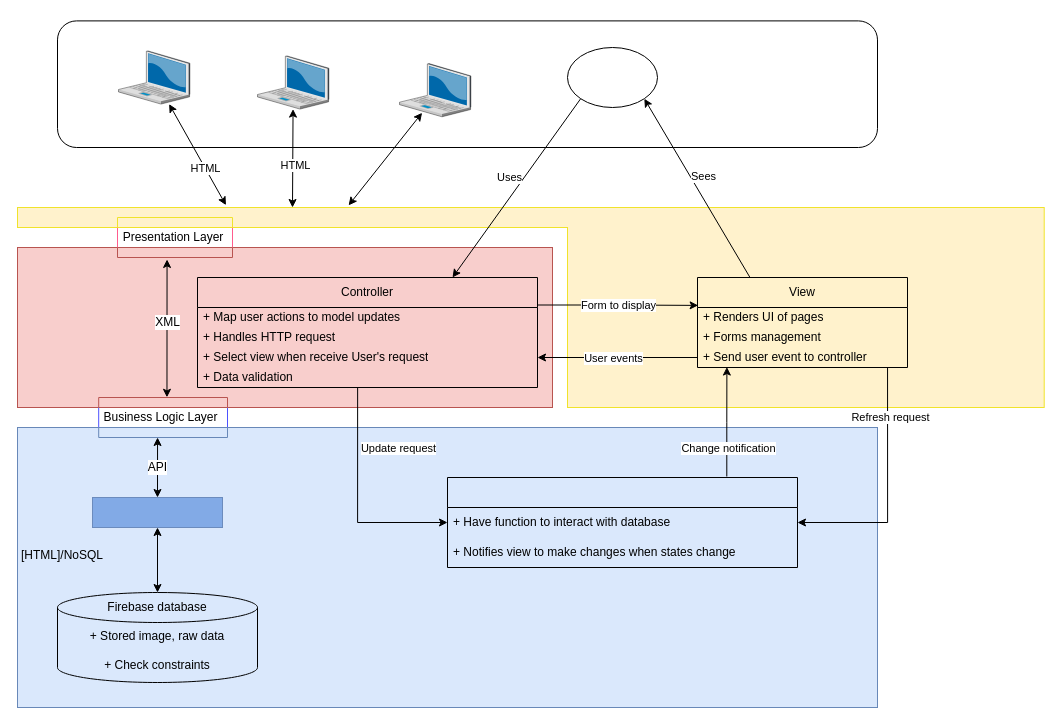
The diagram is 1062 pixels wide and 725 high, and some of its shapes have lost their labels. Here are the shapes that lost their labels. From the top down, the box of each, then its label:
(566, 46, 658, 108): User
(92, 496, 222, 528): DB access layer
(446, 476, 798, 568): Model
